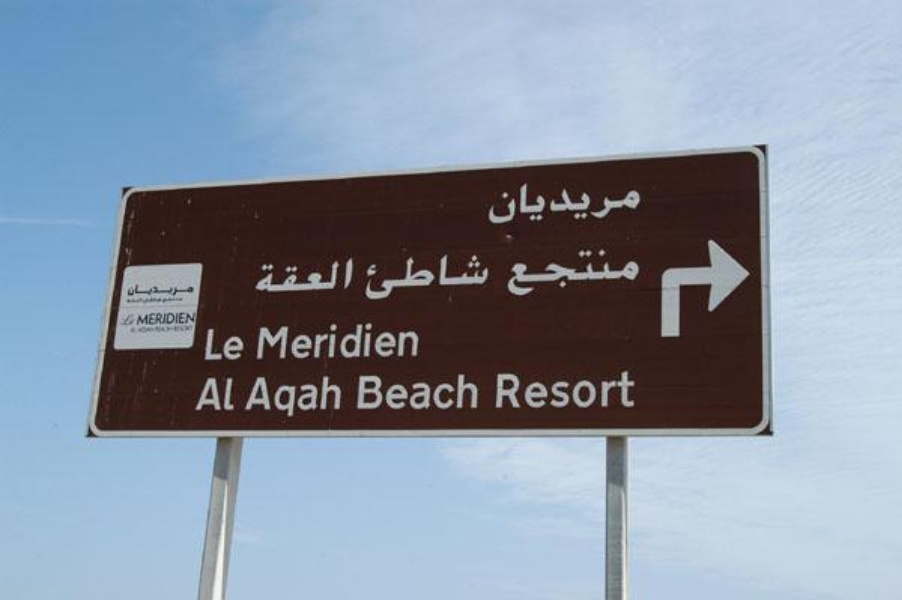text: (625, 244, 641, 298), (513, 244, 528, 298), (529, 244, 544, 298), (545, 244, 560, 298), (561, 244, 576, 298), (577, 244, 592, 298), (593, 244, 608, 298), (609, 244, 624, 298), (497, 173, 512, 225), (513, 173, 528, 225), (529, 173, 544, 225), (545, 173, 560, 225), (561, 173, 576, 225), (577, 173, 592, 225), (593, 173, 608, 225), (609, 173, 624, 225), (625, 173, 640, 225), (369, 249, 384, 301), (385, 249, 400, 301), (401, 249, 416, 301), (417, 249, 432, 301), (433, 249, 448, 301), (449, 249, 464, 301), (465, 249, 480, 301), (273, 375, 288, 420), (289, 375, 304, 420), (305, 375, 320, 420), (321, 375, 336, 420), (258, 375, 272, 420), (497, 369, 512, 410), (513, 369, 528, 410), (529, 369, 544, 410), (545, 369, 560, 410), (561, 369, 576, 410), (577, 369, 592, 410), (593, 369, 608, 410), (609, 369, 624, 410), (485, 173, 496, 225), (273, 256, 288, 294), (289, 256, 304, 294), (305, 256, 320, 294), (321, 256, 336, 294), (337, 256, 352, 294), (273, 322, 288, 360), (289, 322, 304, 360), (305, 322, 320, 360), (321, 322, 336, 360), (337, 322, 352, 360), (353, 322, 368, 360), (369, 322, 384, 360), (385, 322, 400, 360), (401, 322, 416, 360), (369, 372, 384, 410), (385, 372, 400, 410), (401, 372, 416, 410), (417, 372, 432, 410), (433, 372, 448, 410), (449, 372, 464, 410), (209, 376, 224, 413), (209, 325, 224, 361), (225, 325, 240, 361), (258, 322, 272, 360), (465, 372, 479, 410), (625, 369, 636, 410), (261, 256, 272, 294), (481, 249, 489, 301), (358, 372, 368, 410), (225, 376, 235, 413), (337, 375, 345, 420), (507, 244, 512, 298), (145, 283, 160, 297), (161, 283, 176, 297), (177, 283, 192, 297), (145, 312, 160, 325), (161, 312, 176, 325), (177, 312, 192, 325), (131, 283, 144, 297), (129, 295, 144, 306), (145, 295, 160, 306), (161, 295, 176, 306), (641, 173, 644, 225), (129, 310, 137, 327), (129, 324, 144, 333), (145, 324, 160, 333), (161, 324, 176, 333), (177, 324, 192, 333), (177, 295, 188, 306), (417, 322, 420, 360), (205, 376, 208, 413), (241, 325, 244, 361), (136, 312, 144, 325), (366, 249, 368, 301), (122, 310, 128, 327), (353, 256, 355, 294), (206, 325, 208, 361), (193, 324, 199, 333), (193, 312, 197, 325), (124, 295, 128, 306), (193, 283, 194, 297), (127, 324, 128, 333)
